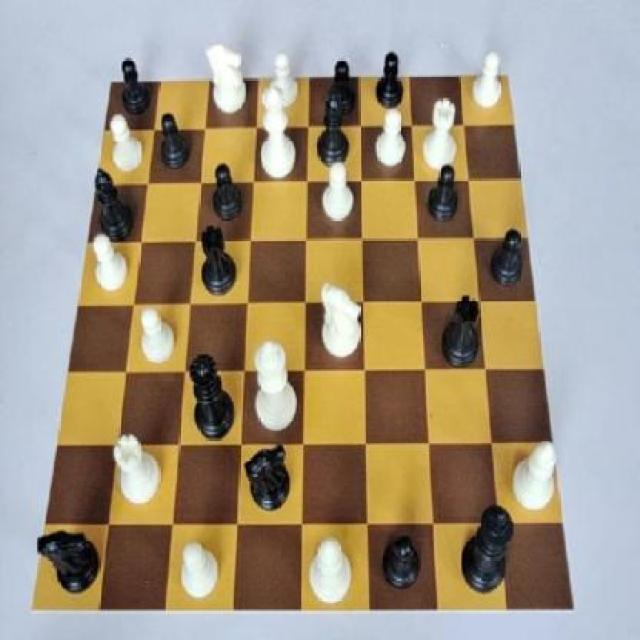bishop: (86, 166, 145, 247), (312, 91, 352, 172)
black-bishop: (458, 494, 516, 601)
black-king: (32, 517, 108, 606), (243, 438, 295, 524)
black-knight: (486, 218, 536, 298), (374, 526, 428, 600), (154, 106, 200, 182), (420, 160, 466, 232), (110, 48, 152, 123), (371, 43, 410, 117), (320, 51, 363, 118), (208, 156, 247, 224)
black-pawn: (186, 351, 244, 449)
black-queen: (438, 286, 492, 372), (193, 222, 244, 299)
black-rook: (509, 440, 567, 515), (304, 530, 358, 608)
white-bishop: (250, 336, 304, 434)
white-king: (317, 279, 368, 376), (200, 39, 252, 122)
white-knight: (80, 224, 131, 298), (317, 152, 363, 232), (174, 531, 222, 600), (464, 38, 506, 114), (106, 108, 149, 178), (137, 298, 179, 368), (368, 106, 410, 176), (268, 49, 308, 120)
white-pawn: (251, 78, 302, 187)
white-queen: (110, 430, 168, 514), (416, 94, 464, 178)
